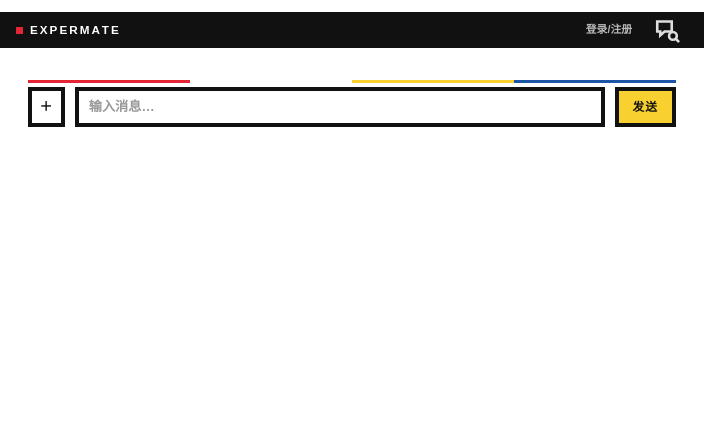
Test: 真实 React 输入、流式回复和工具卡只生成一次，用户 HTML 是文本
Type "<img onerror=alert(1)>" into the text box with placeholder "输入消息…" at (340, 107), box [89,95,591,119]
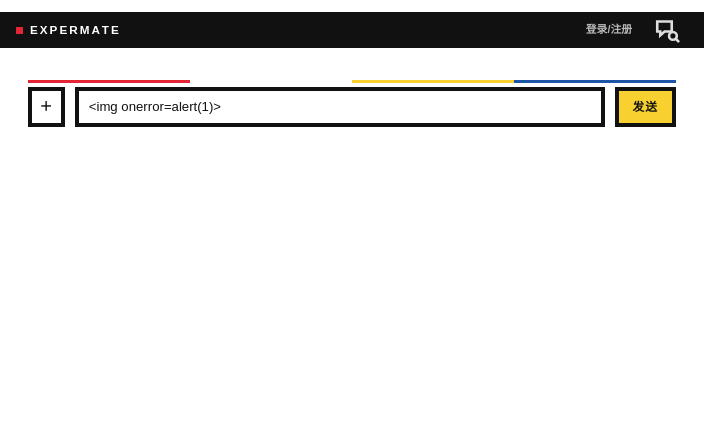
Click the button "发送" at (645, 107), box [615,87,676,127]
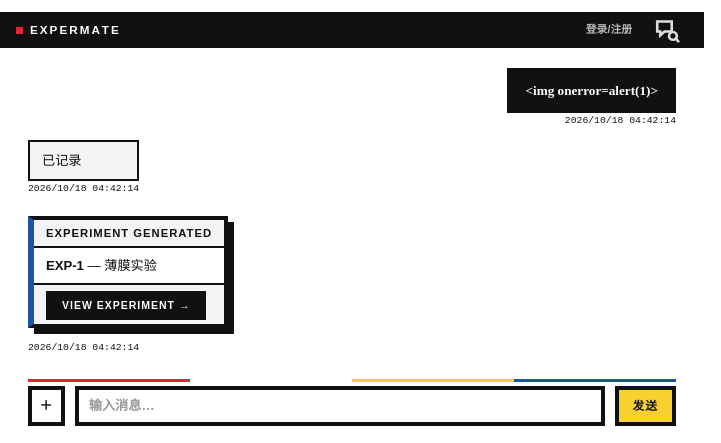
Check: the text "已记录" is shown, box [42,153,82,168]
Check: the text "薄膜实验" is shown, box [104,258,157,273]
Check: the number of elements with class "user" is 1, box [508,68,676,126]
